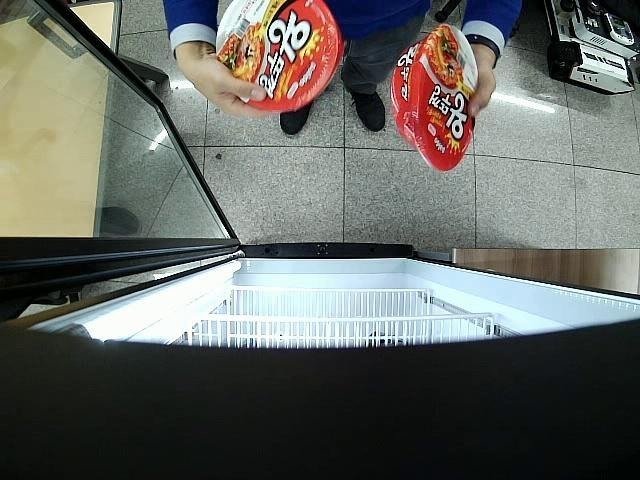10_wangTtukkeong: (217, 0, 346, 113), (391, 25, 478, 171)
